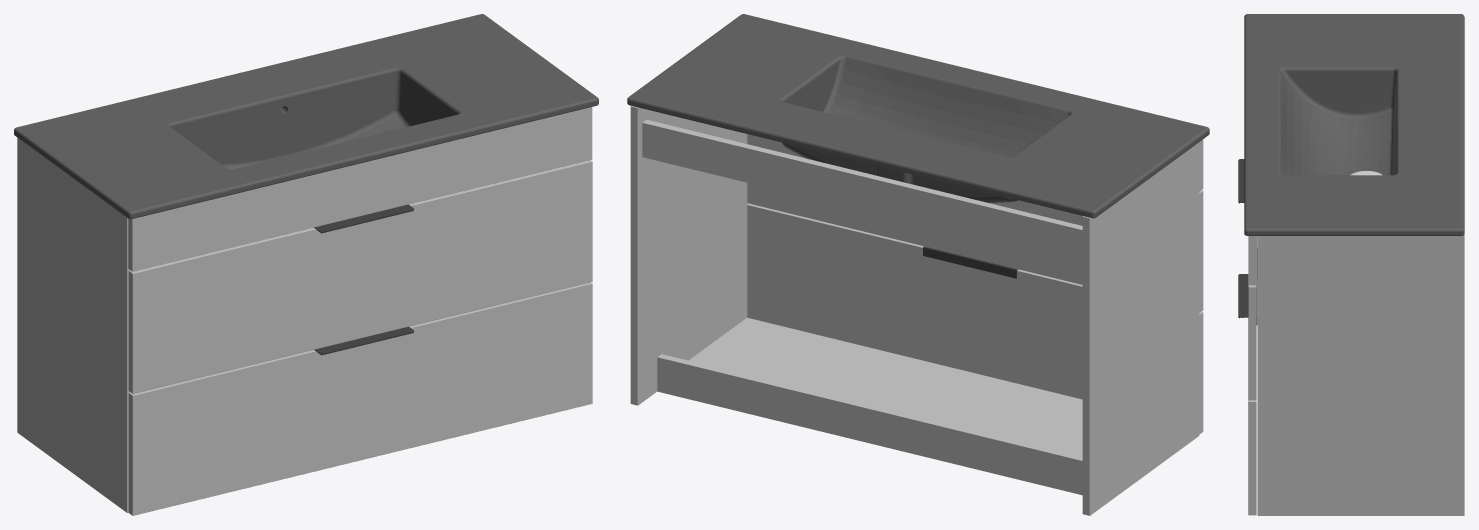
File: AEC_47540.glb
The picture shows the model from 3 angles, left to right: view 1: azimuth 30°, elevation 25°; view 2: azimuth 150°, elevation 25°; view 3: azimuth 270°, elevation 25°; orthographic projection. The views are drawn at different scales.
Visible parts, largest first — view 1: 0; view 2: 0; view 3: 0.
Part boxes in pixels (x1,y1,x2,y2): 0: (14,14,598,515); 0: (627,14,1209,515); 0: (1238,14,1464,515).
Bounding box in the file's own units: 1 × 0.622 × 0.4413.
1 material, 1 textured.
